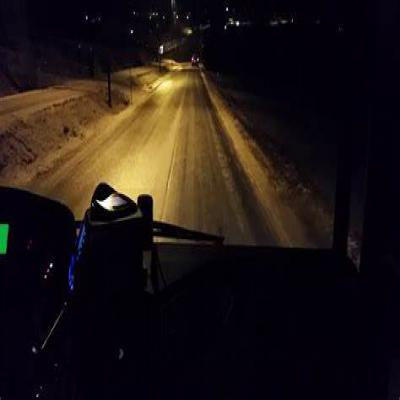iced-road: (24, 69, 273, 244)
